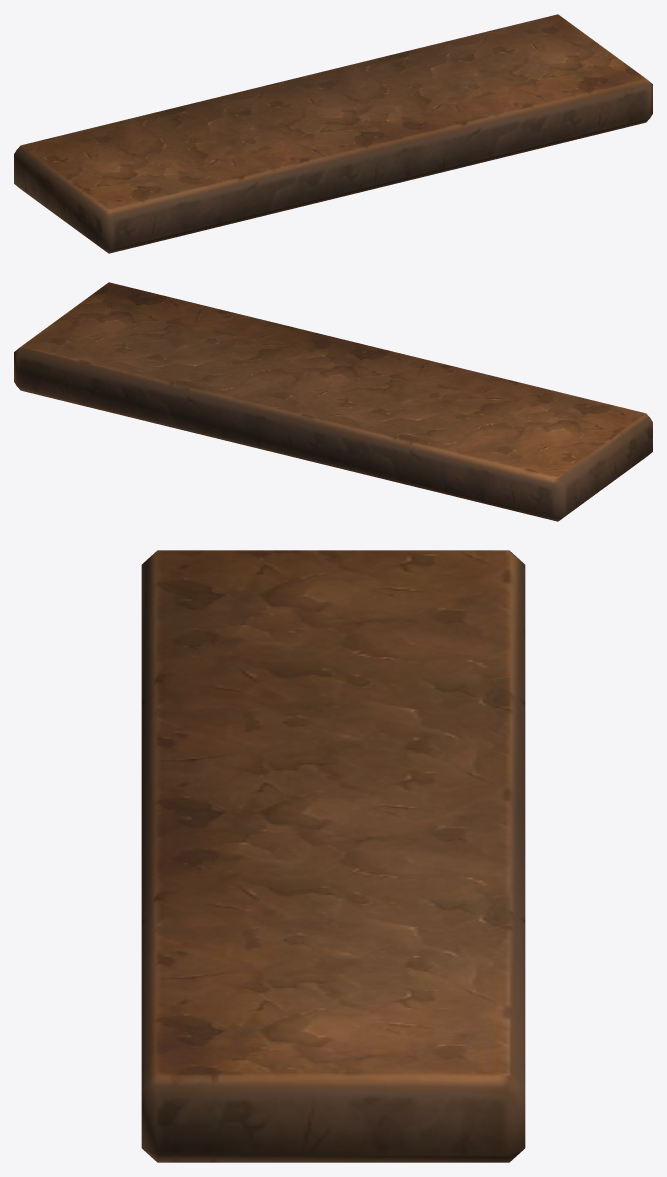
File: DE_House_Mod_Part_102.fbx
The picture shows the model from 3 angles, top to bottom: view 1: azimuth 30°, elevation 25°; view 2: azimuth 150°, elevation 25°; view 3: azimuth 270°, elevation 25°; orthographic projection. The views are drawn at different scales.
Parts seen in each view (by area): view 1: DE_House_Mod_Part_102; view 2: DE_House_Mod_Part_102; view 3: DE_House_Mod_Part_102.
Part boxes in pixels (bbox=[...]): DE_House_Mod_Part_102: bbox=[14, 14, 652, 253]; DE_House_Mod_Part_102: bbox=[14, 282, 652, 521]; DE_House_Mod_Part_102: bbox=[141, 550, 525, 1162].
Size of the model in its own units: 5.77 by 0.4402 by 1.74.
